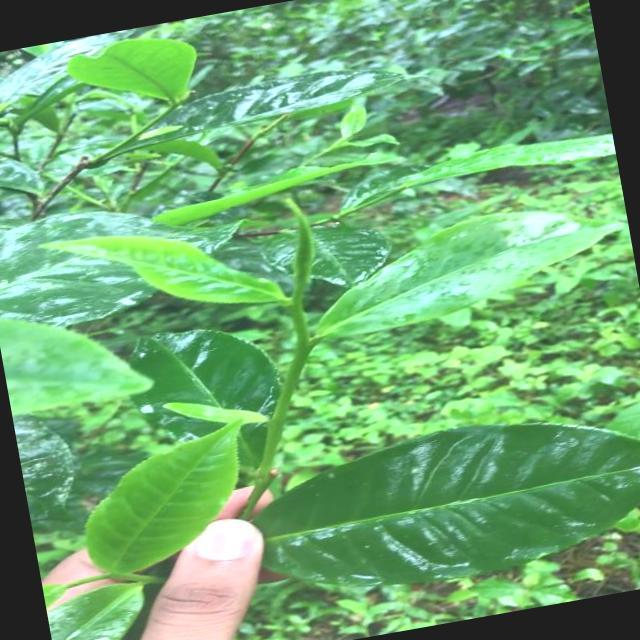Stem: (286, 346, 313, 377)
